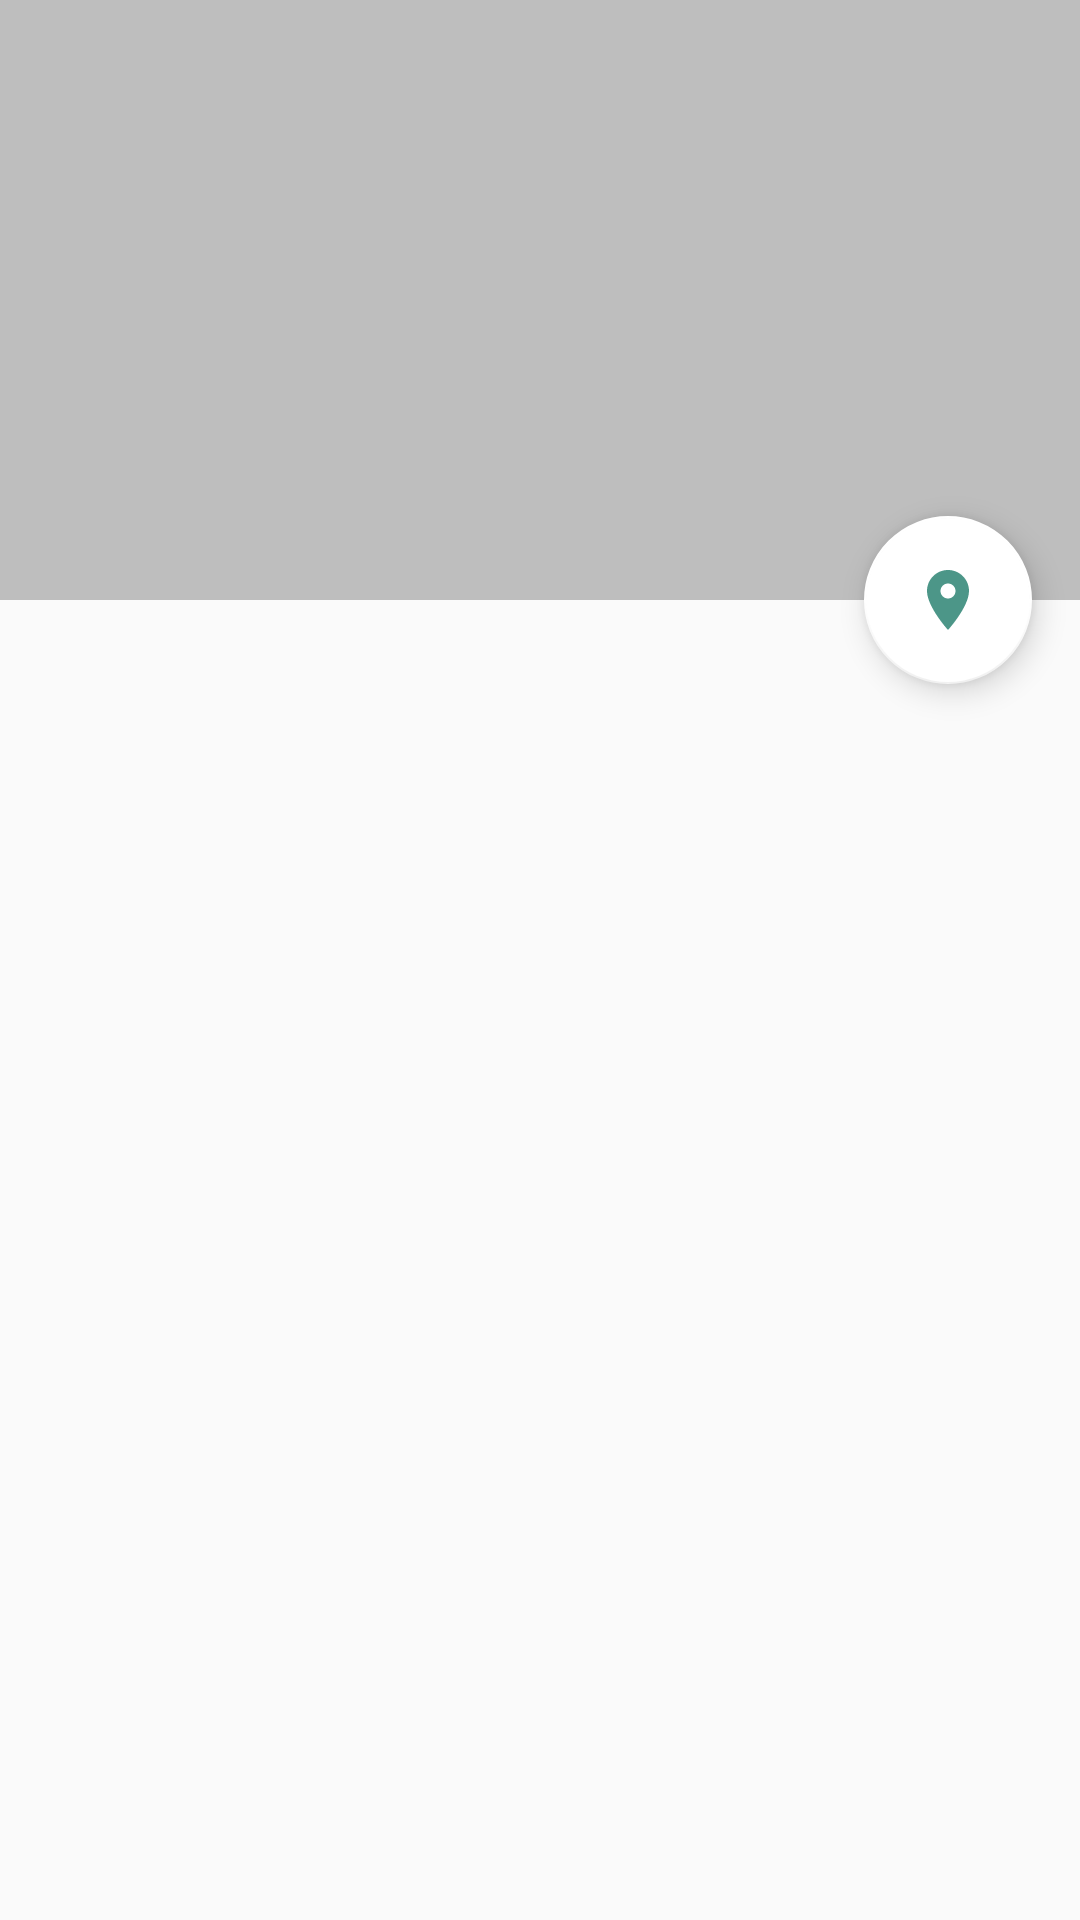

Where to tap for icons on this 1080x1920 app screen, as (x,y):
location on: (948,600)
